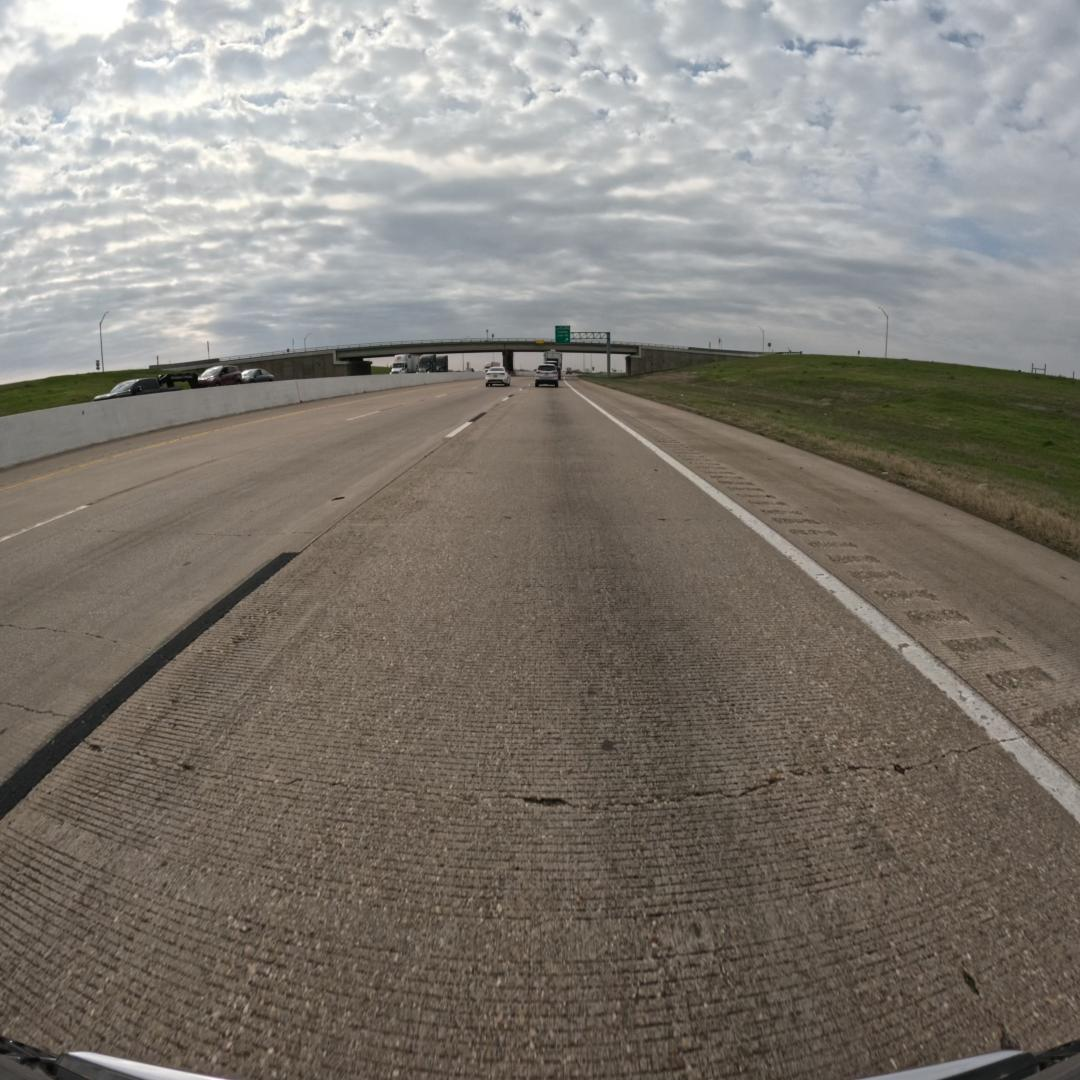lane0: (0, 385, 1080, 1077)
lane1: (0, 387, 514, 817)
